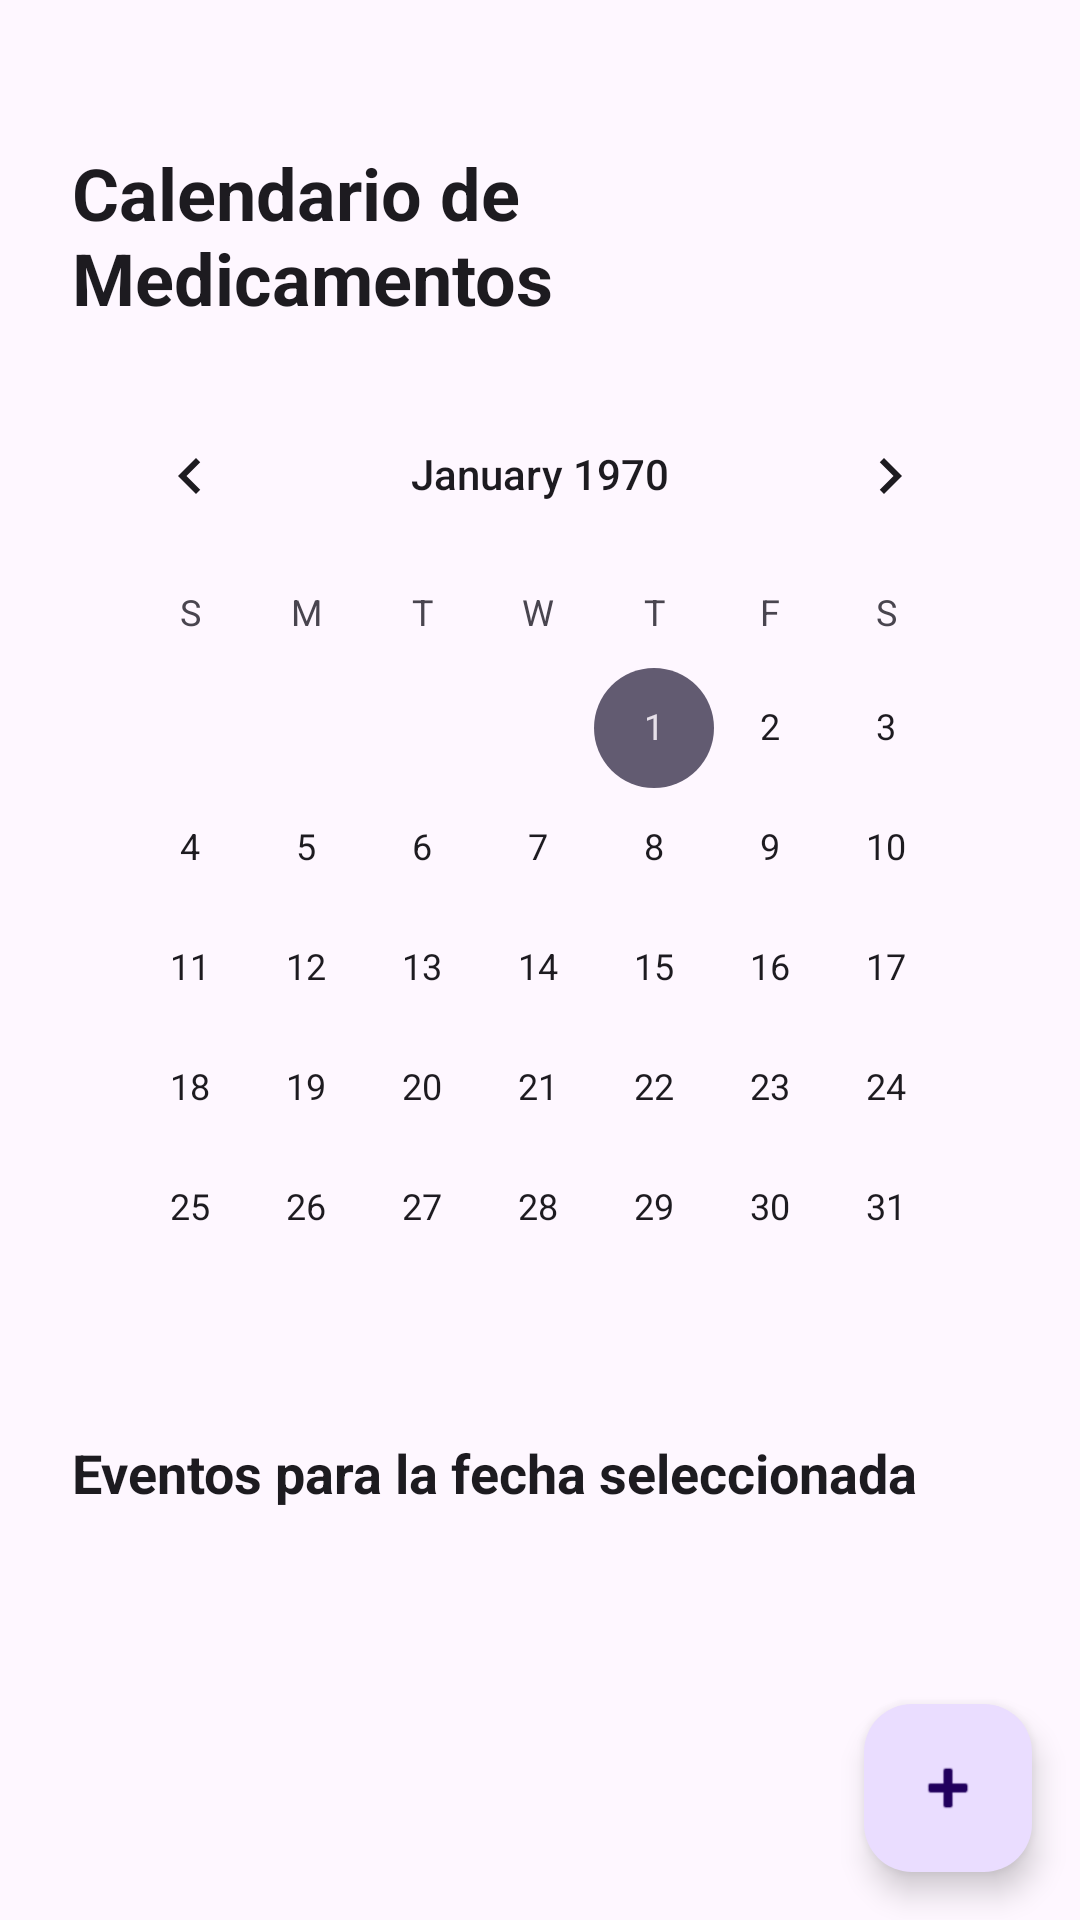

Icons on this 1080*1920 Android screen, each with the point to tap as (x=x, y=y):
Agregar evento de medicamento: (x=948, y=1788)
